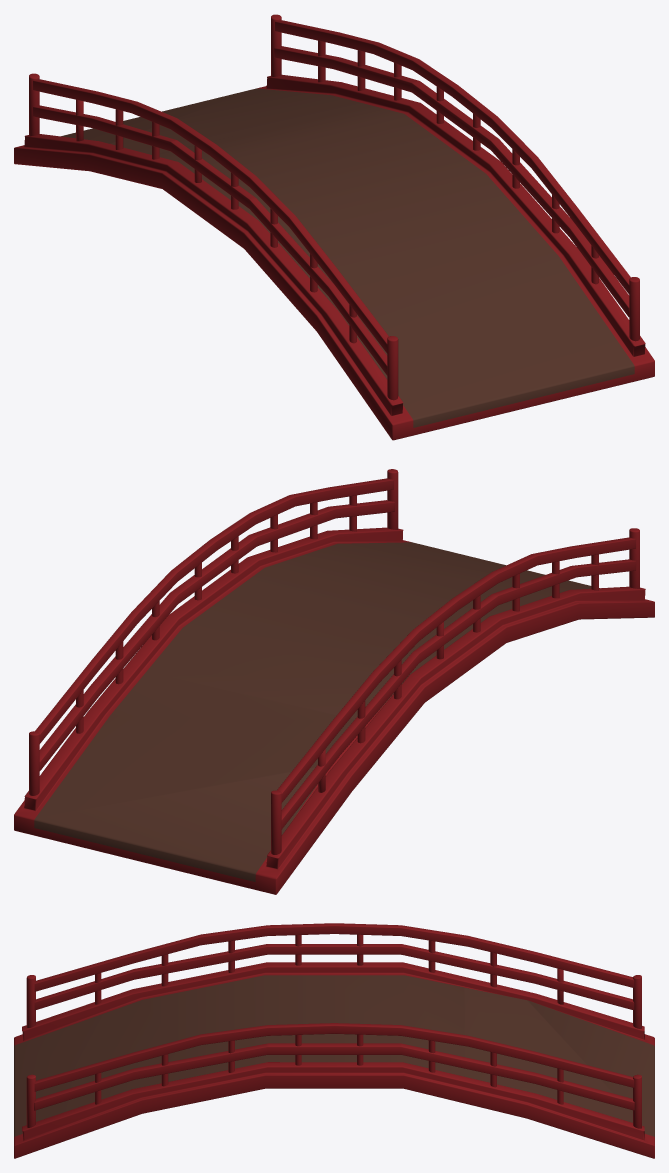
Rendered from Bridges3.fbx.
The picture shows the model from 3 angles, top to bottom: view 1: azimuth 30°, elevation 25°; view 2: azimuth 150°, elevation 25°; view 3: azimuth 270°, elevation 25°; orthographic projection. The views are drawn at different scales.
Visible parts, largest first — view 1: Cube.010, Cube.013, Cube.012, Cube.011, Cube.014, Cylinder.031, Cylinder.032; view 2: Cube.010, Cube.013, Cube.012, Cube.011, Cube.014, Cylinder.033, Cylinder.034; view 3: Cube.010, Cube.013, Cube.012, Cube.011, Cube.014, Cylinder.031, Cylinder.032, Cylinder.033, Cylinder.034.
Part boxes in pixels (bbox=[...]): Cube.010: bbox=[14, 74, 654, 440]; Cube.013: bbox=[274, 46, 629, 316]; Cube.012: bbox=[275, 20, 630, 294]; Cube.011: bbox=[33, 79, 388, 353]; Cube.014: bbox=[33, 105, 387, 375]; Cylinder.031: bbox=[387, 336, 398, 400]; Cylinder.032: bbox=[629, 277, 639, 341]; Cube.010: bbox=[14, 527, 654, 894]; Cube.013: bbox=[39, 500, 394, 770]; Cube.012: bbox=[35, 478, 393, 743]; Cube.011: bbox=[277, 537, 635, 802]; Cube.014: bbox=[281, 559, 635, 829]; Cylinder.033: bbox=[29, 731, 39, 795]; Cylinder.034: bbox=[271, 790, 281, 854]; Cube.010: bbox=[14, 962, 654, 1158]; Cube.013: bbox=[34, 1043, 634, 1110]; Cube.012: bbox=[34, 1023, 634, 1091]; Cube.011: bbox=[34, 923, 634, 991]; Cube.014: bbox=[34, 944, 634, 1010]; Cylinder.031: bbox=[26, 975, 35, 1027]; Cylinder.032: bbox=[26, 1074, 35, 1127]; Cylinder.033: bbox=[633, 1074, 641, 1128]; Cylinder.034: bbox=[633, 975, 641, 1028].
Bounding box in the file's own units: 500 × 281 × 1248.
